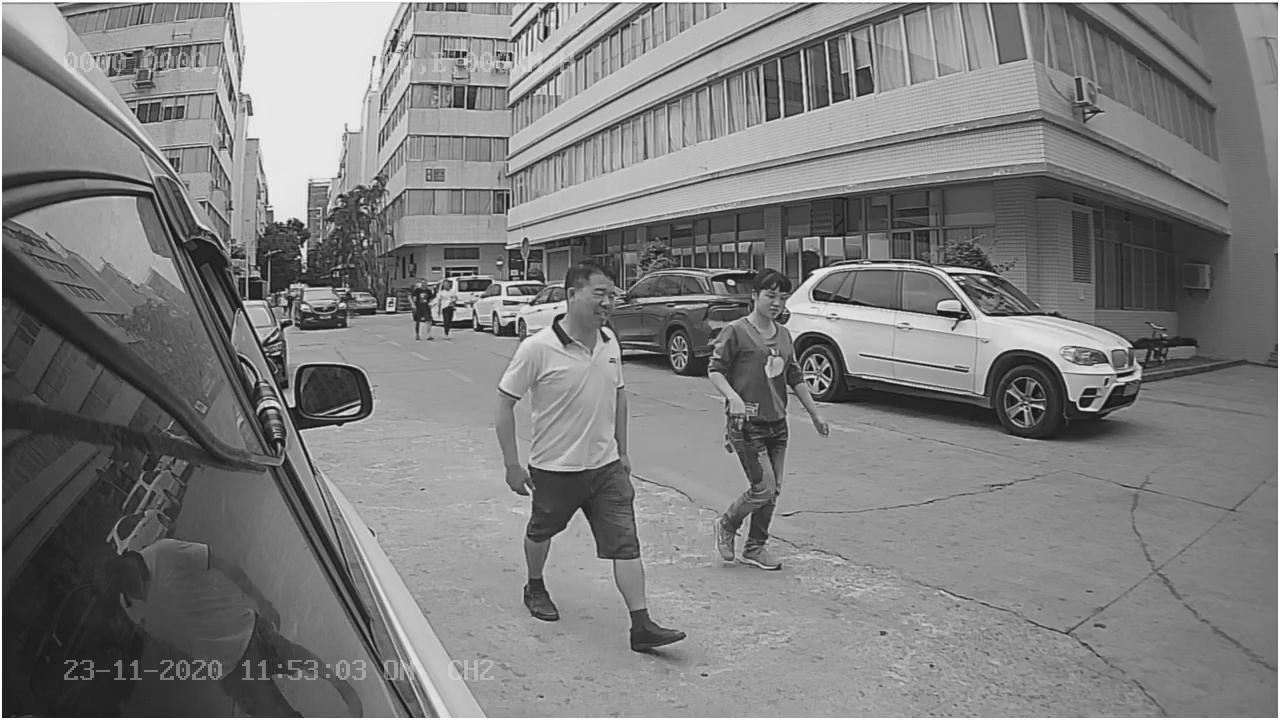person: (507, 260, 653, 624), (712, 264, 807, 563)
